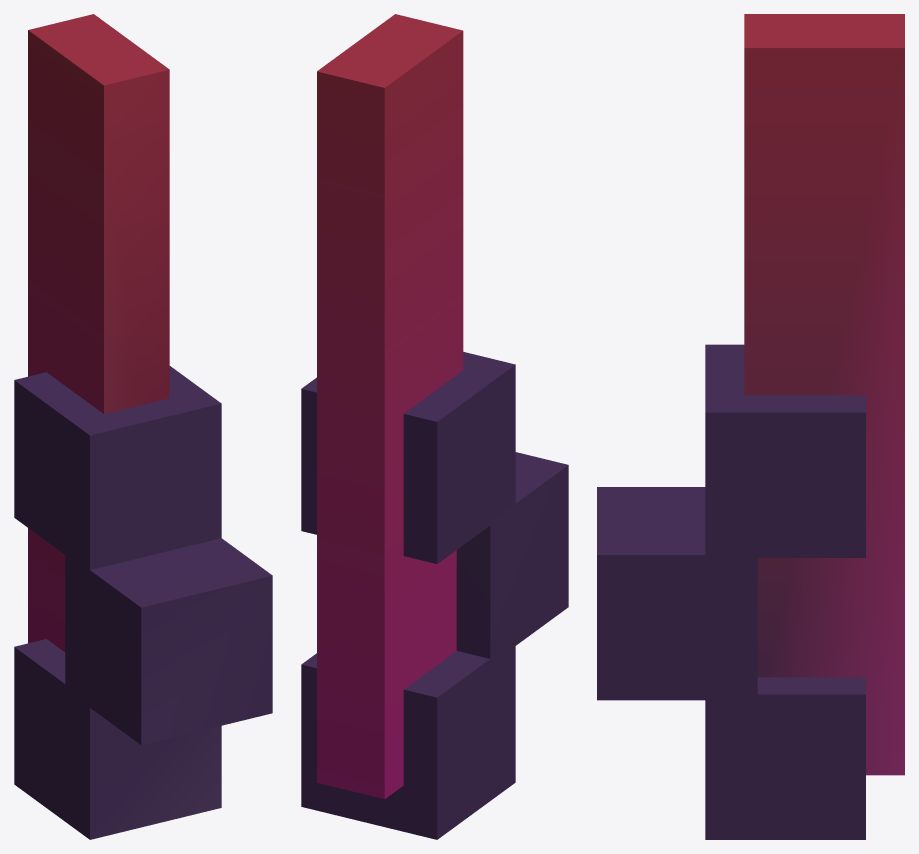
The model's file is cannon.fbx.
3 renders of one model, left to right at view 1: azimuth 30°, elevation 25°; view 2: azimuth 150°, elevation 25°; view 3: azimuth 270°, elevation 25°, orthographic. The views are drawn at different scales.
Parts seen in each view (by area): view 1: Cube; view 2: Cube; view 3: Cube.
Part boxes in pixels (x1,y1,x2,y2): Cube: (14,14,272,839); Cube: (301,14,568,839); Cube: (597,14,904,839).
Bounding box in the file's own units: 200 × 1065 × 383.
